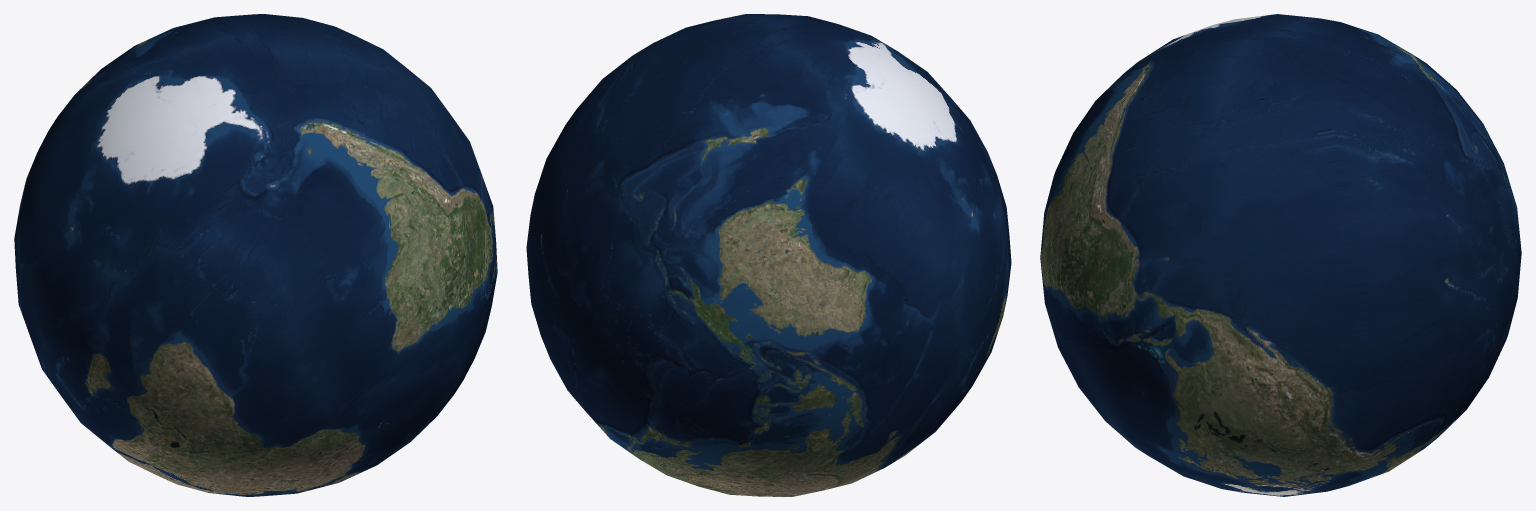
Rendered from Moon2K.obj.
3 views of the same model, side by side, from view 1: azimuth 30°, elevation 25°; view 2: azimuth 150°, elevation 25°; view 3: azimuth 270°, elevation 25° (orthographic).
Parts seen in each view (by area): view 1: Moon_Cube.004; view 2: Moon_Cube.004; view 3: Moon_Cube.004.
Boxes of the visible parts, x1,y1,x2,y2 form: Moon_Cube.004: [14, 14, 497, 496]; Moon_Cube.004: [526, 14, 1011, 496]; Moon_Cube.004: [1040, 14, 1521, 496].
Bounding box in the file's own units: 3.48 × 3.49 × 3.48.
